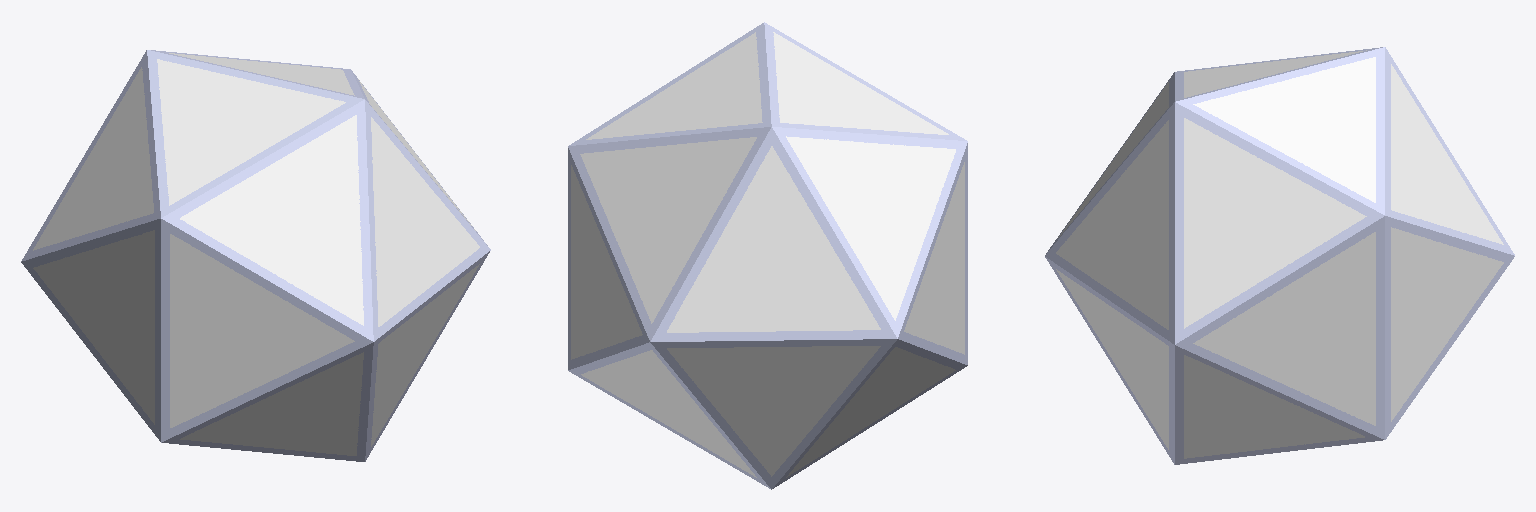
3 renders of one model, left to right at view 1: azimuth 30°, elevation 25°; view 2: azimuth 150°, elevation 25°; view 3: azimuth 270°, elevation 25°, orthographic.
Visible parts, largest first — view 1: pPlatonic1; view 2: pPlatonic1; view 3: pPlatonic1.
Boxes of the visible parts, x1,y1,x2,y2 form: pPlatonic1: [21, 50, 490, 461]; pPlatonic1: [568, 22, 967, 489]; pPlatonic1: [1045, 47, 1514, 464].
Bounding box in the file's own units: 5.37 × 5.1 × 6.
Materials: 1 (1 with a texture image).